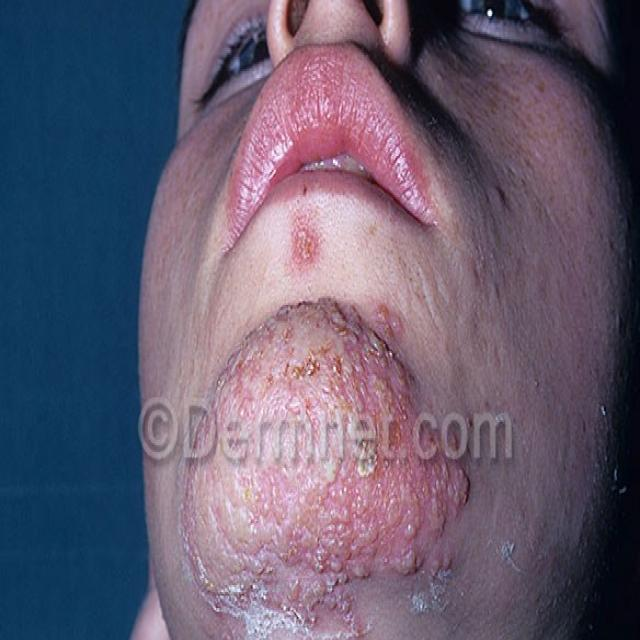Viral Infections: (200, 301, 463, 602), (287, 211, 333, 274)
